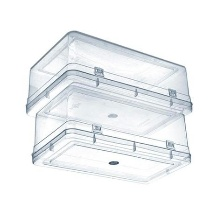plastic_box: (18, 27, 199, 142), (25, 77, 197, 190)
